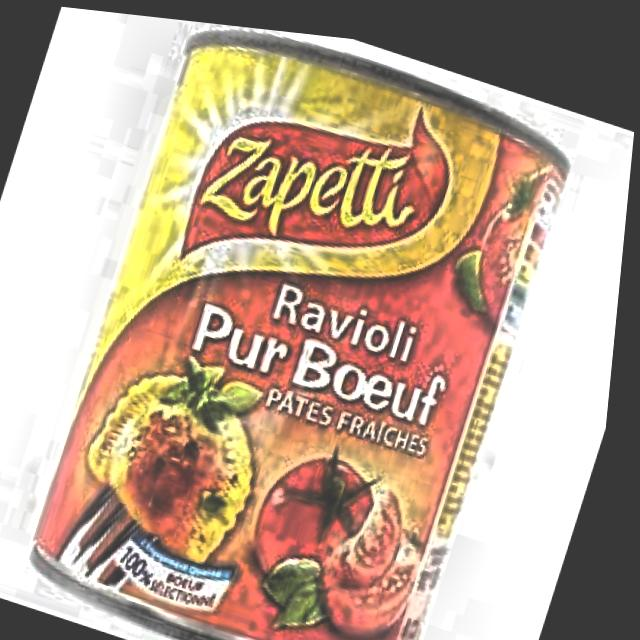Cans: (4, 5, 589, 640)
